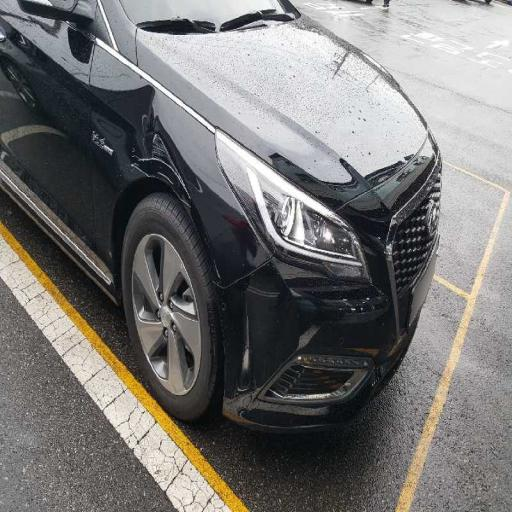dent: (175, 123, 397, 419)
